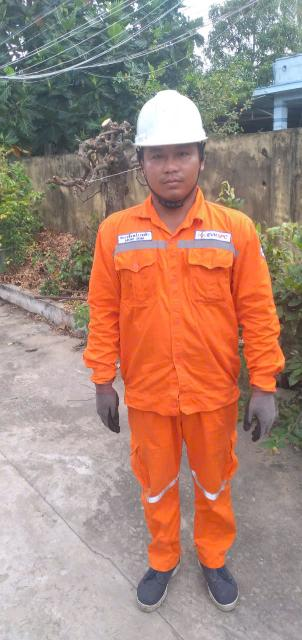gloves: (227, 379, 290, 447), (89, 371, 139, 441)
helmet: (124, 89, 218, 155)
shoes: (127, 551, 195, 624), (196, 538, 250, 615)
